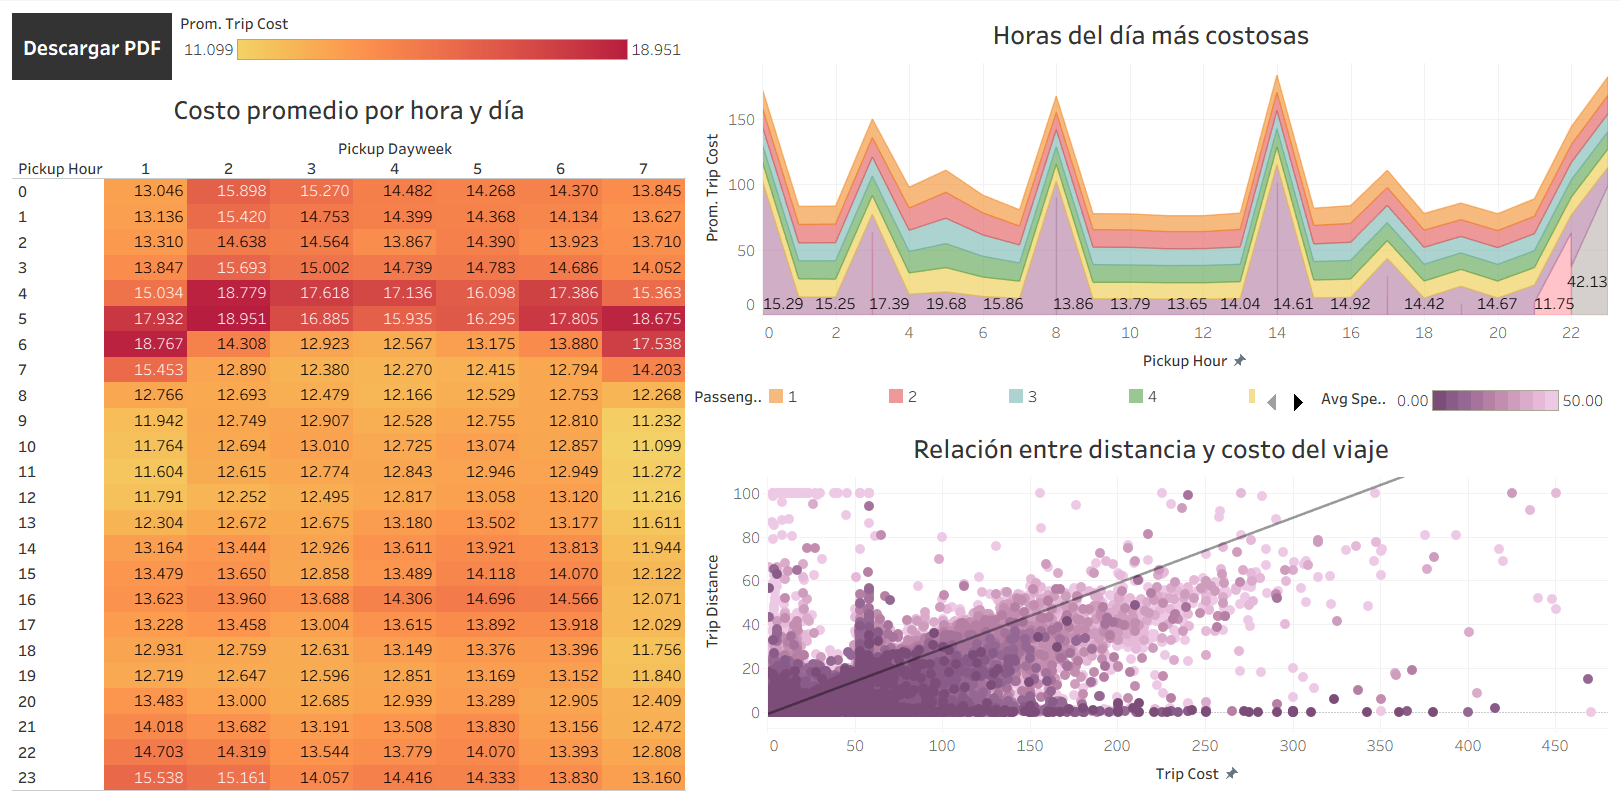

This screenshot's page, from the dashboard's own definition file:
{"tool":"tableau","page":{"name":"Dashboard 1","canvas":[1000,1000],"units":"permille","ordinal":0},"visuals":[{"type":"dashboard-object","box":[4.9,10,103.7,93.5]},{"type":"legend","title":"Costo promedio por hora y día","param":"[federated.1o912xv098u5c9194jm6e1lr4x2h].[avg:trip_cost:qk]","box":[108.6,10,317.3,93.5]},{"type":"worksheet","title":"Horas del día más costosas","mark":"Area","rows":["trip_cost"],"cols":["pickup_hour"],"box":[425.9,10,569.1,465.1]},{"type":"worksheet","title":"Costo promedio por hora y día","mark":"Square","rows":["pickup_hour"],"cols":["pickup_dayweek"],"box":[4.9,103.5,421,886.5]},{"type":"legend","title":"Horas del día más costosas","param":"[federated.1o912xv098u5c9194jm6e1lr4x2h].[none:passenger_count:ok]","box":[425.9,475.1,387,51.1]},{"type":"legend","title":"Relación entre distancia y costo del viaje","param":"[federated.1o912xv098u5c9194jm6e1lr4x2h].[none:avg_speed:qk]","box":[813,475.1,182.1,51.1]},{"type":"worksheet","title":"Relación entre distancia y costo del viaje","mark":"Circle","rows":["trip_distance"],"cols":["trip_cost"],"box":[425.9,526.2,569.1,463.8]}]}

Visuals, with their boxes on the dashboard's canvas, which has no fixed pixel size, in thousandths of its width and height (x1, y1, x2, y2). These are canvas units, not pixel positions in the 1620x797 screenshot, which may show the page scaled, cropped or inside an application window:
dashboard-object: <region>5, 10, 109, 104</region>
"Costo promedio por hora y día" legend: <region>109, 10, 426, 104</region>
"Horas del día más costosas" worksheet (Area marks): <region>426, 10, 995, 475</region>
"Costo promedio por hora y día" worksheet (Square marks): <region>5, 104, 426, 990</region>
"Horas del día más costosas" legend: <region>426, 475, 813, 526</region>
"Relación entre distancia y costo del viaje" legend: <region>813, 475, 995, 526</region>
"Relación entre distancia y costo del viaje" worksheet (Circle marks): <region>426, 526, 995, 990</region>
